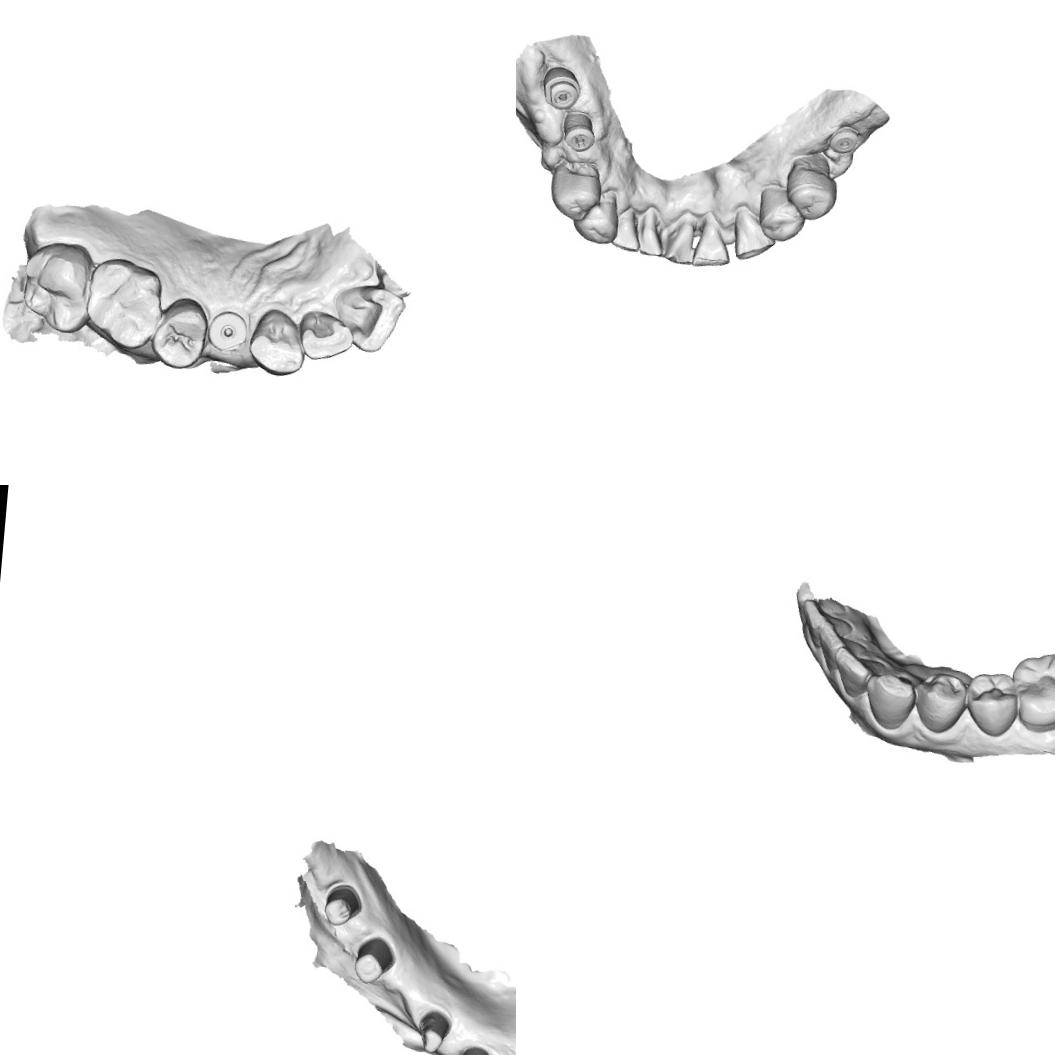abutment: (350, 934, 397, 988), (319, 881, 364, 929), (414, 1006, 454, 1055), (455, 1042, 494, 1055)
canine: (244, 304, 307, 378), (861, 667, 919, 732), (570, 188, 620, 246), (730, 204, 778, 262)
implant: (206, 306, 251, 354), (826, 124, 860, 154)
implant_minus: (539, 64, 582, 112), (560, 110, 597, 152)
incisor: (328, 280, 410, 356), (297, 306, 356, 364), (690, 210, 734, 269), (827, 645, 872, 701), (814, 620, 872, 657), (798, 599, 855, 636), (662, 210, 698, 266), (633, 204, 666, 258), (609, 204, 643, 252)
molar: (79, 253, 169, 354), (16, 236, 98, 339), (1007, 647, 1055, 735)
premolar: (148, 291, 213, 372), (962, 666, 1023, 740), (782, 148, 841, 221), (909, 669, 971, 737), (546, 158, 604, 222), (755, 183, 808, 243)
